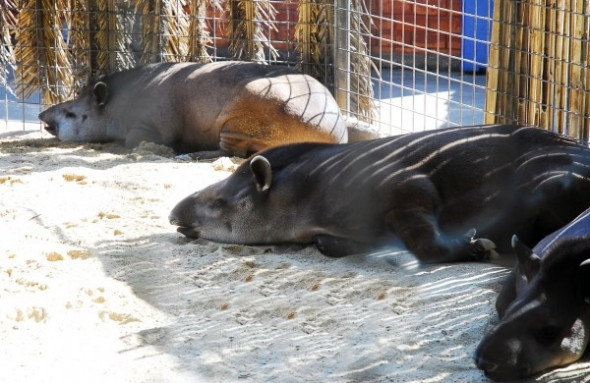Anta: (157, 122, 590, 241), (31, 56, 359, 150), (486, 235, 588, 379)
